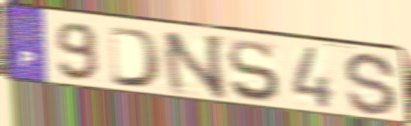4: (288, 45, 339, 111)
9: (55, 20, 104, 83)
D: (106, 24, 166, 91)
N: (159, 31, 229, 101)
S: (225, 38, 283, 105), (342, 51, 399, 118)
